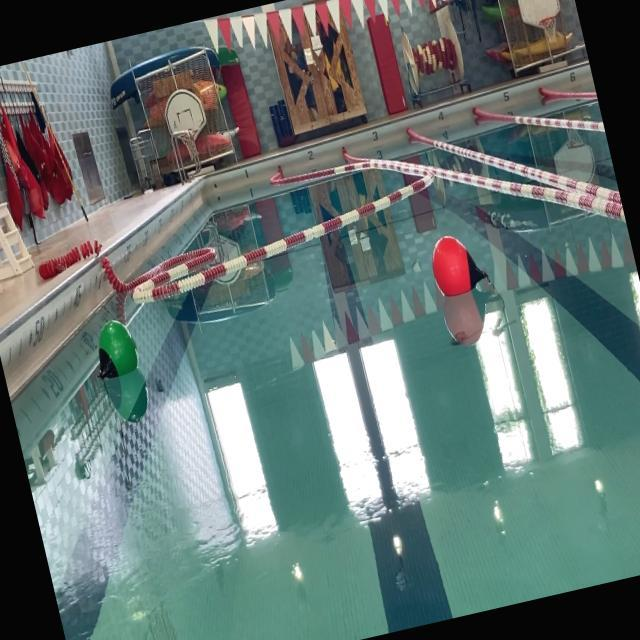buoy: (424, 224, 494, 300), (89, 313, 143, 383)
